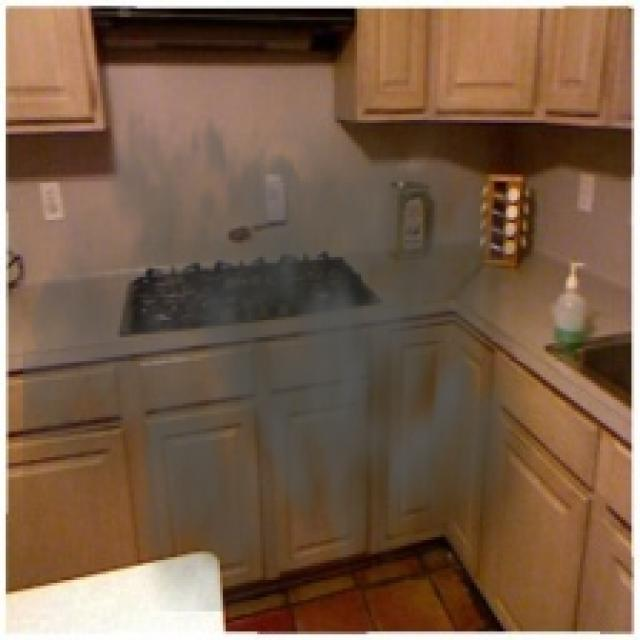Smoke: (22, 57, 558, 612)
